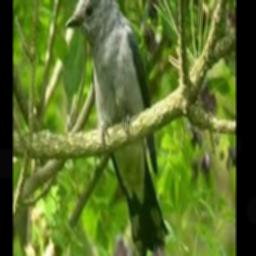Cuckoo: (65, 0, 168, 256)
